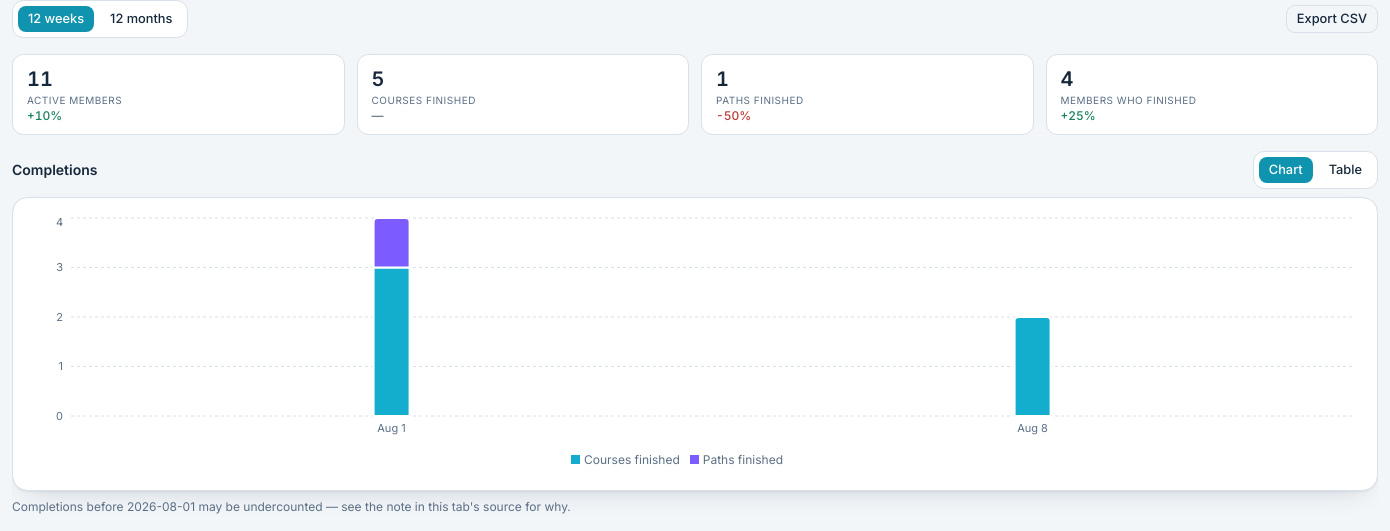
it: ReportsTab — completions series › keeps the exact figures one click away, on both desktop and mobile layouts
Expected: the text "11" is shown, [27,67,53,91]
Click the button "Table" at coordinates (1345, 170), box [1318,156,1373,184]
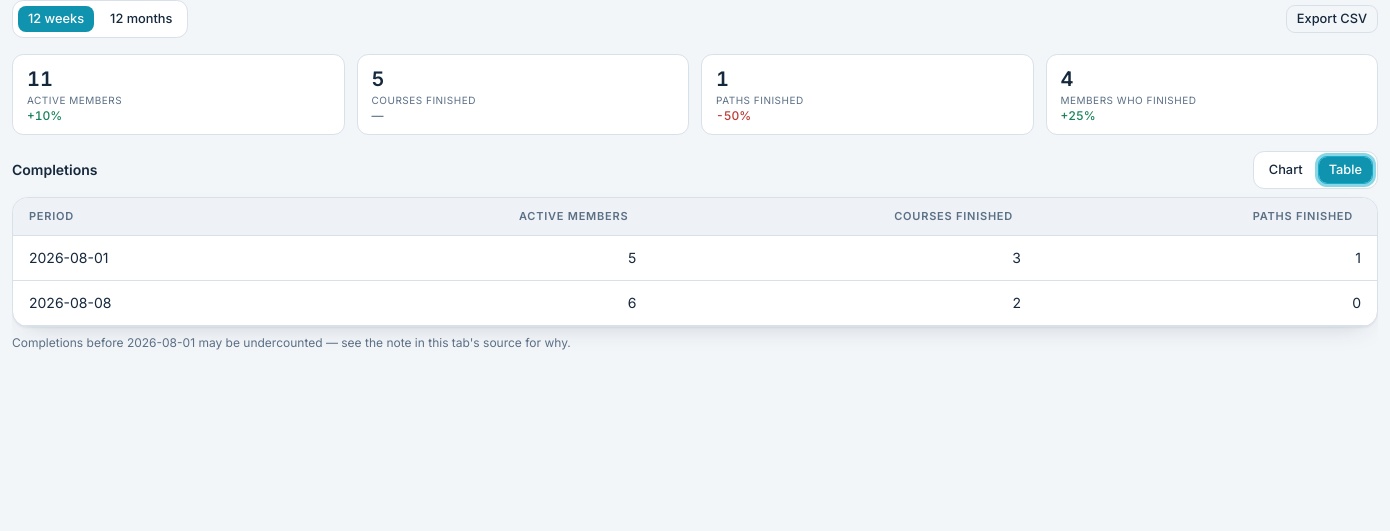
Expected: the text "Active members" is shown, [27,94,122,106]
Expected: the text "2026-08-01" is shown, [13,235,290,280]
Expected: the text "2026-08-08" is shown, [13,280,290,325]
